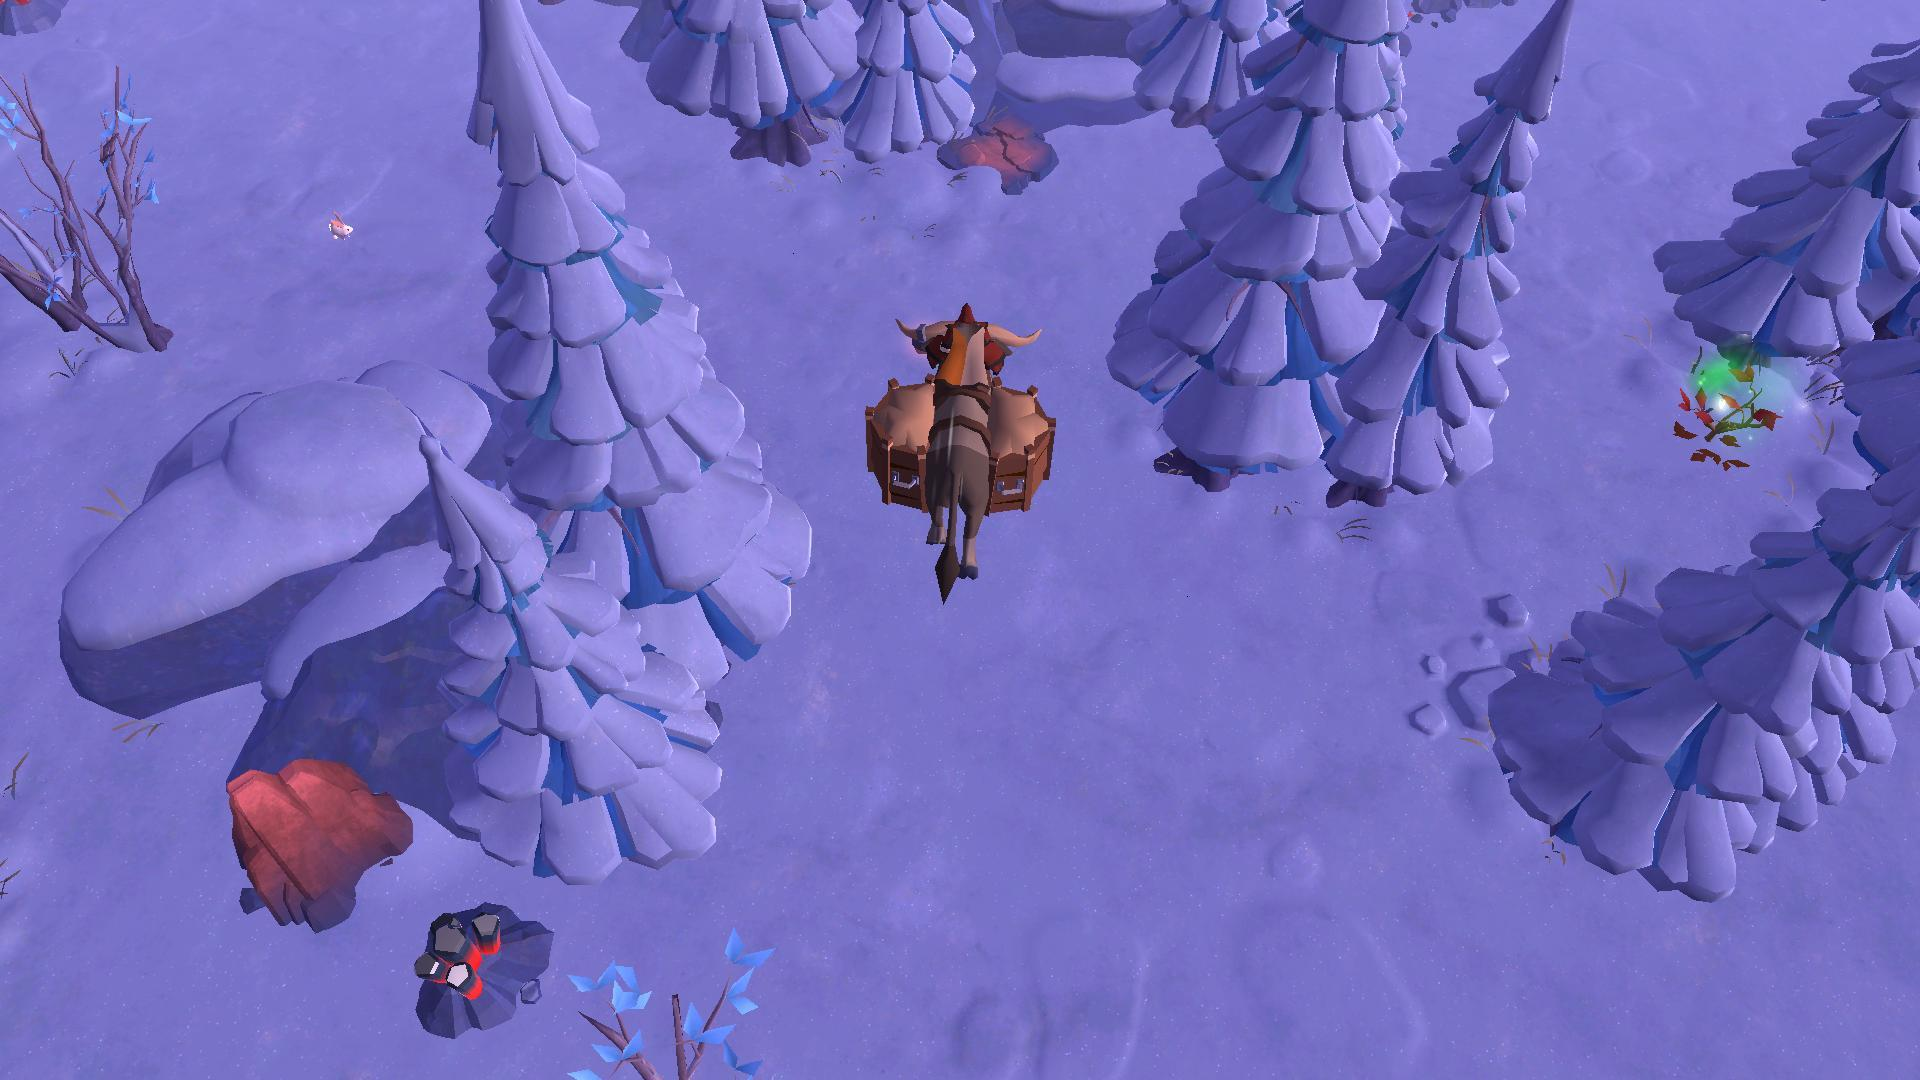ore_t5: (406, 907, 504, 1004)
rock_t5: (216, 750, 414, 935)
